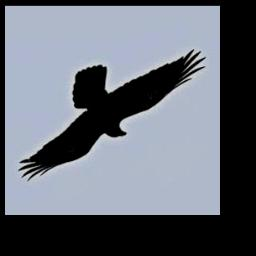Crow: (18, 48, 206, 182)
